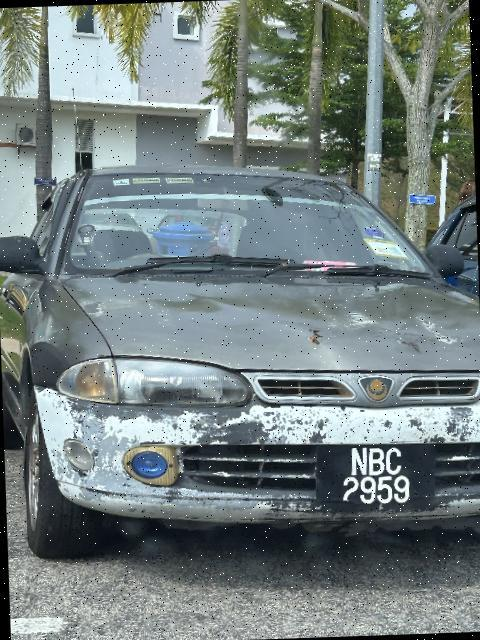License_Plate: (315, 443, 439, 513)
NBC2959: (315, 443, 439, 513)
car: (1, 146, 480, 566)
